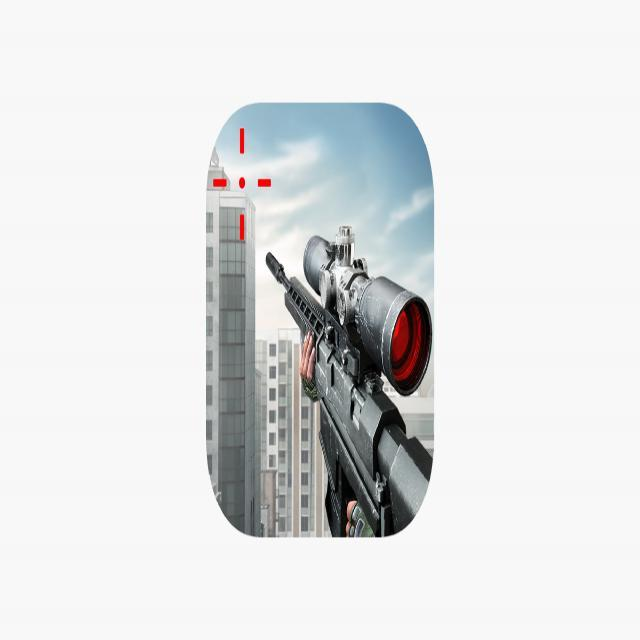scope: (295, 211, 430, 386)
sniper rifle: (263, 218, 431, 535)
